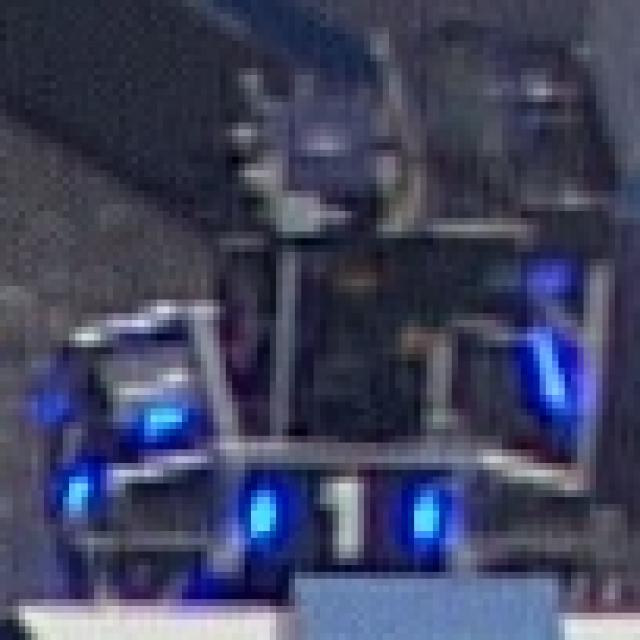B1: (232, 449, 439, 565)
